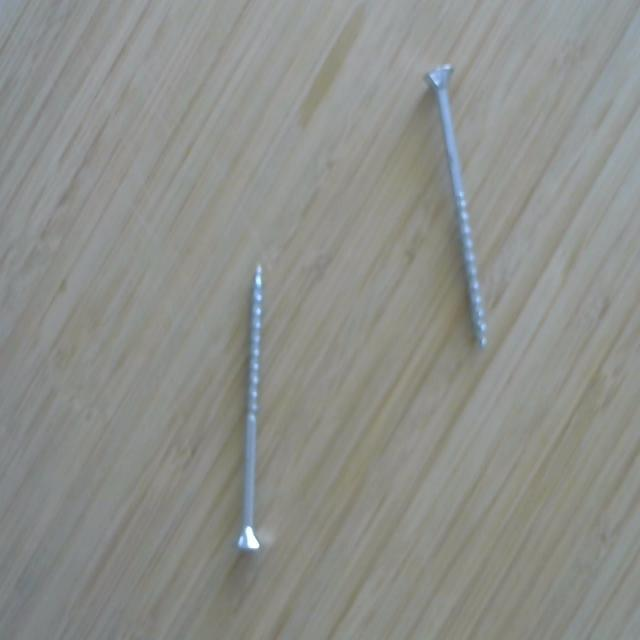Long screw: (420, 56, 494, 356), (229, 255, 270, 557)
